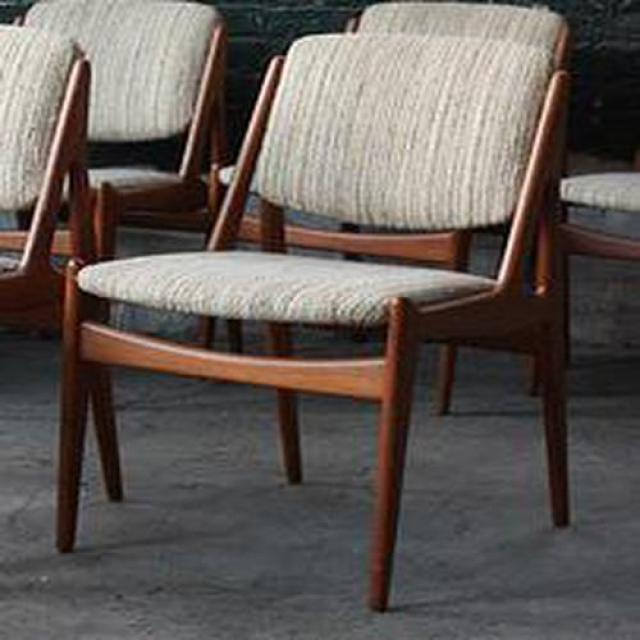chair: (52, 3, 572, 613)
